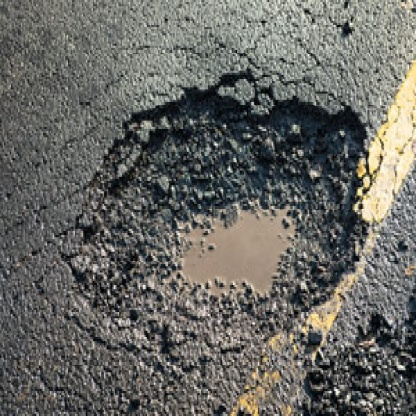pothole: (47, 63, 402, 354)
